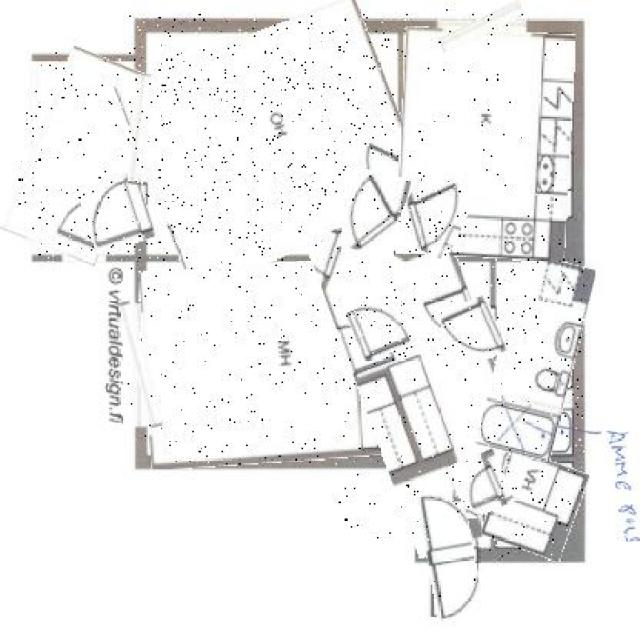door: (422, 491, 480, 623), (398, 169, 471, 257), (343, 171, 408, 257), (81, 172, 150, 251), (442, 298, 503, 364), (349, 297, 414, 358), (452, 452, 510, 516)
window: (128, 300, 155, 429), (437, 9, 526, 43), (131, 74, 152, 184)
zone: (129, 14, 417, 272), (332, 202, 522, 552), (142, 260, 390, 465), (398, 30, 574, 258), (18, 52, 151, 262), (488, 256, 584, 458), (488, 454, 583, 557)
